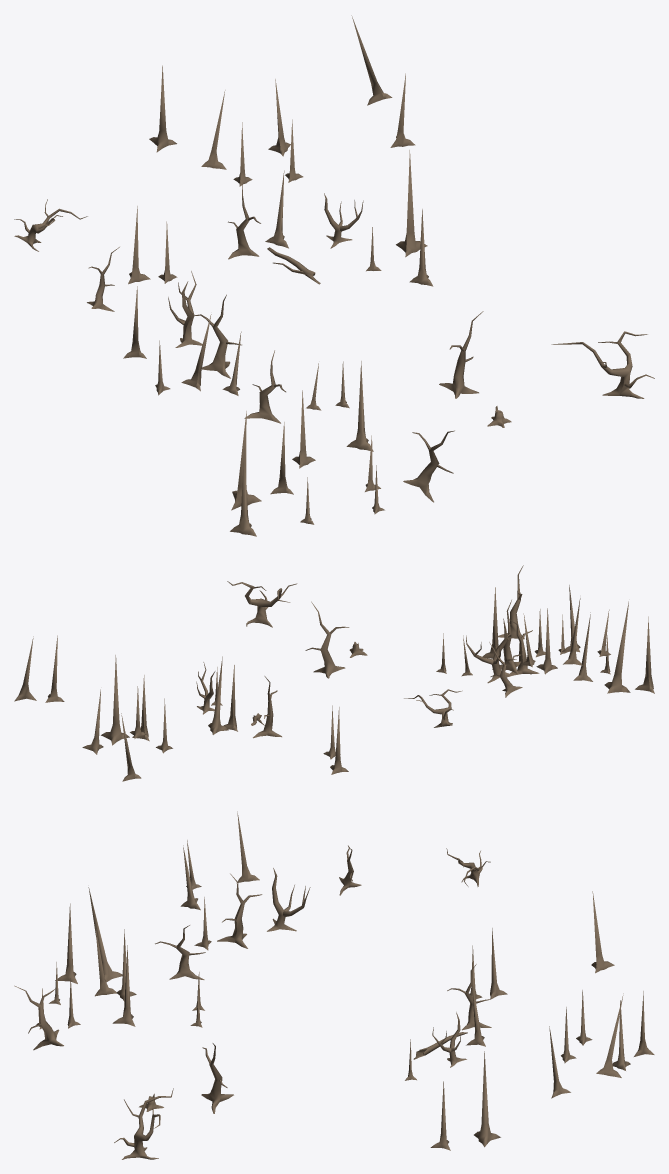
The picture shows the model from 3 angles, top to bottom: view 1: azimuth 30°, elevation 25°; view 2: azimuth 150°, elevation 25°; view 3: azimuth 270°, elevation 25°; orthographic projection. The views are drawn at different scales.
Visible parts, largest first — view 1: 008-0-8; view 2: 008-0-8; view 3: 008-0-8.
Part boxes in pixels (<box>): 008-0-8: <box>14,15,654,536</box>; 008-0-8: <box>14,565,654,781</box>; 008-0-8: <box>14,811,654,1159</box>.
Size of the model in its own units: 69.87 by 28.64 by 91.82.
